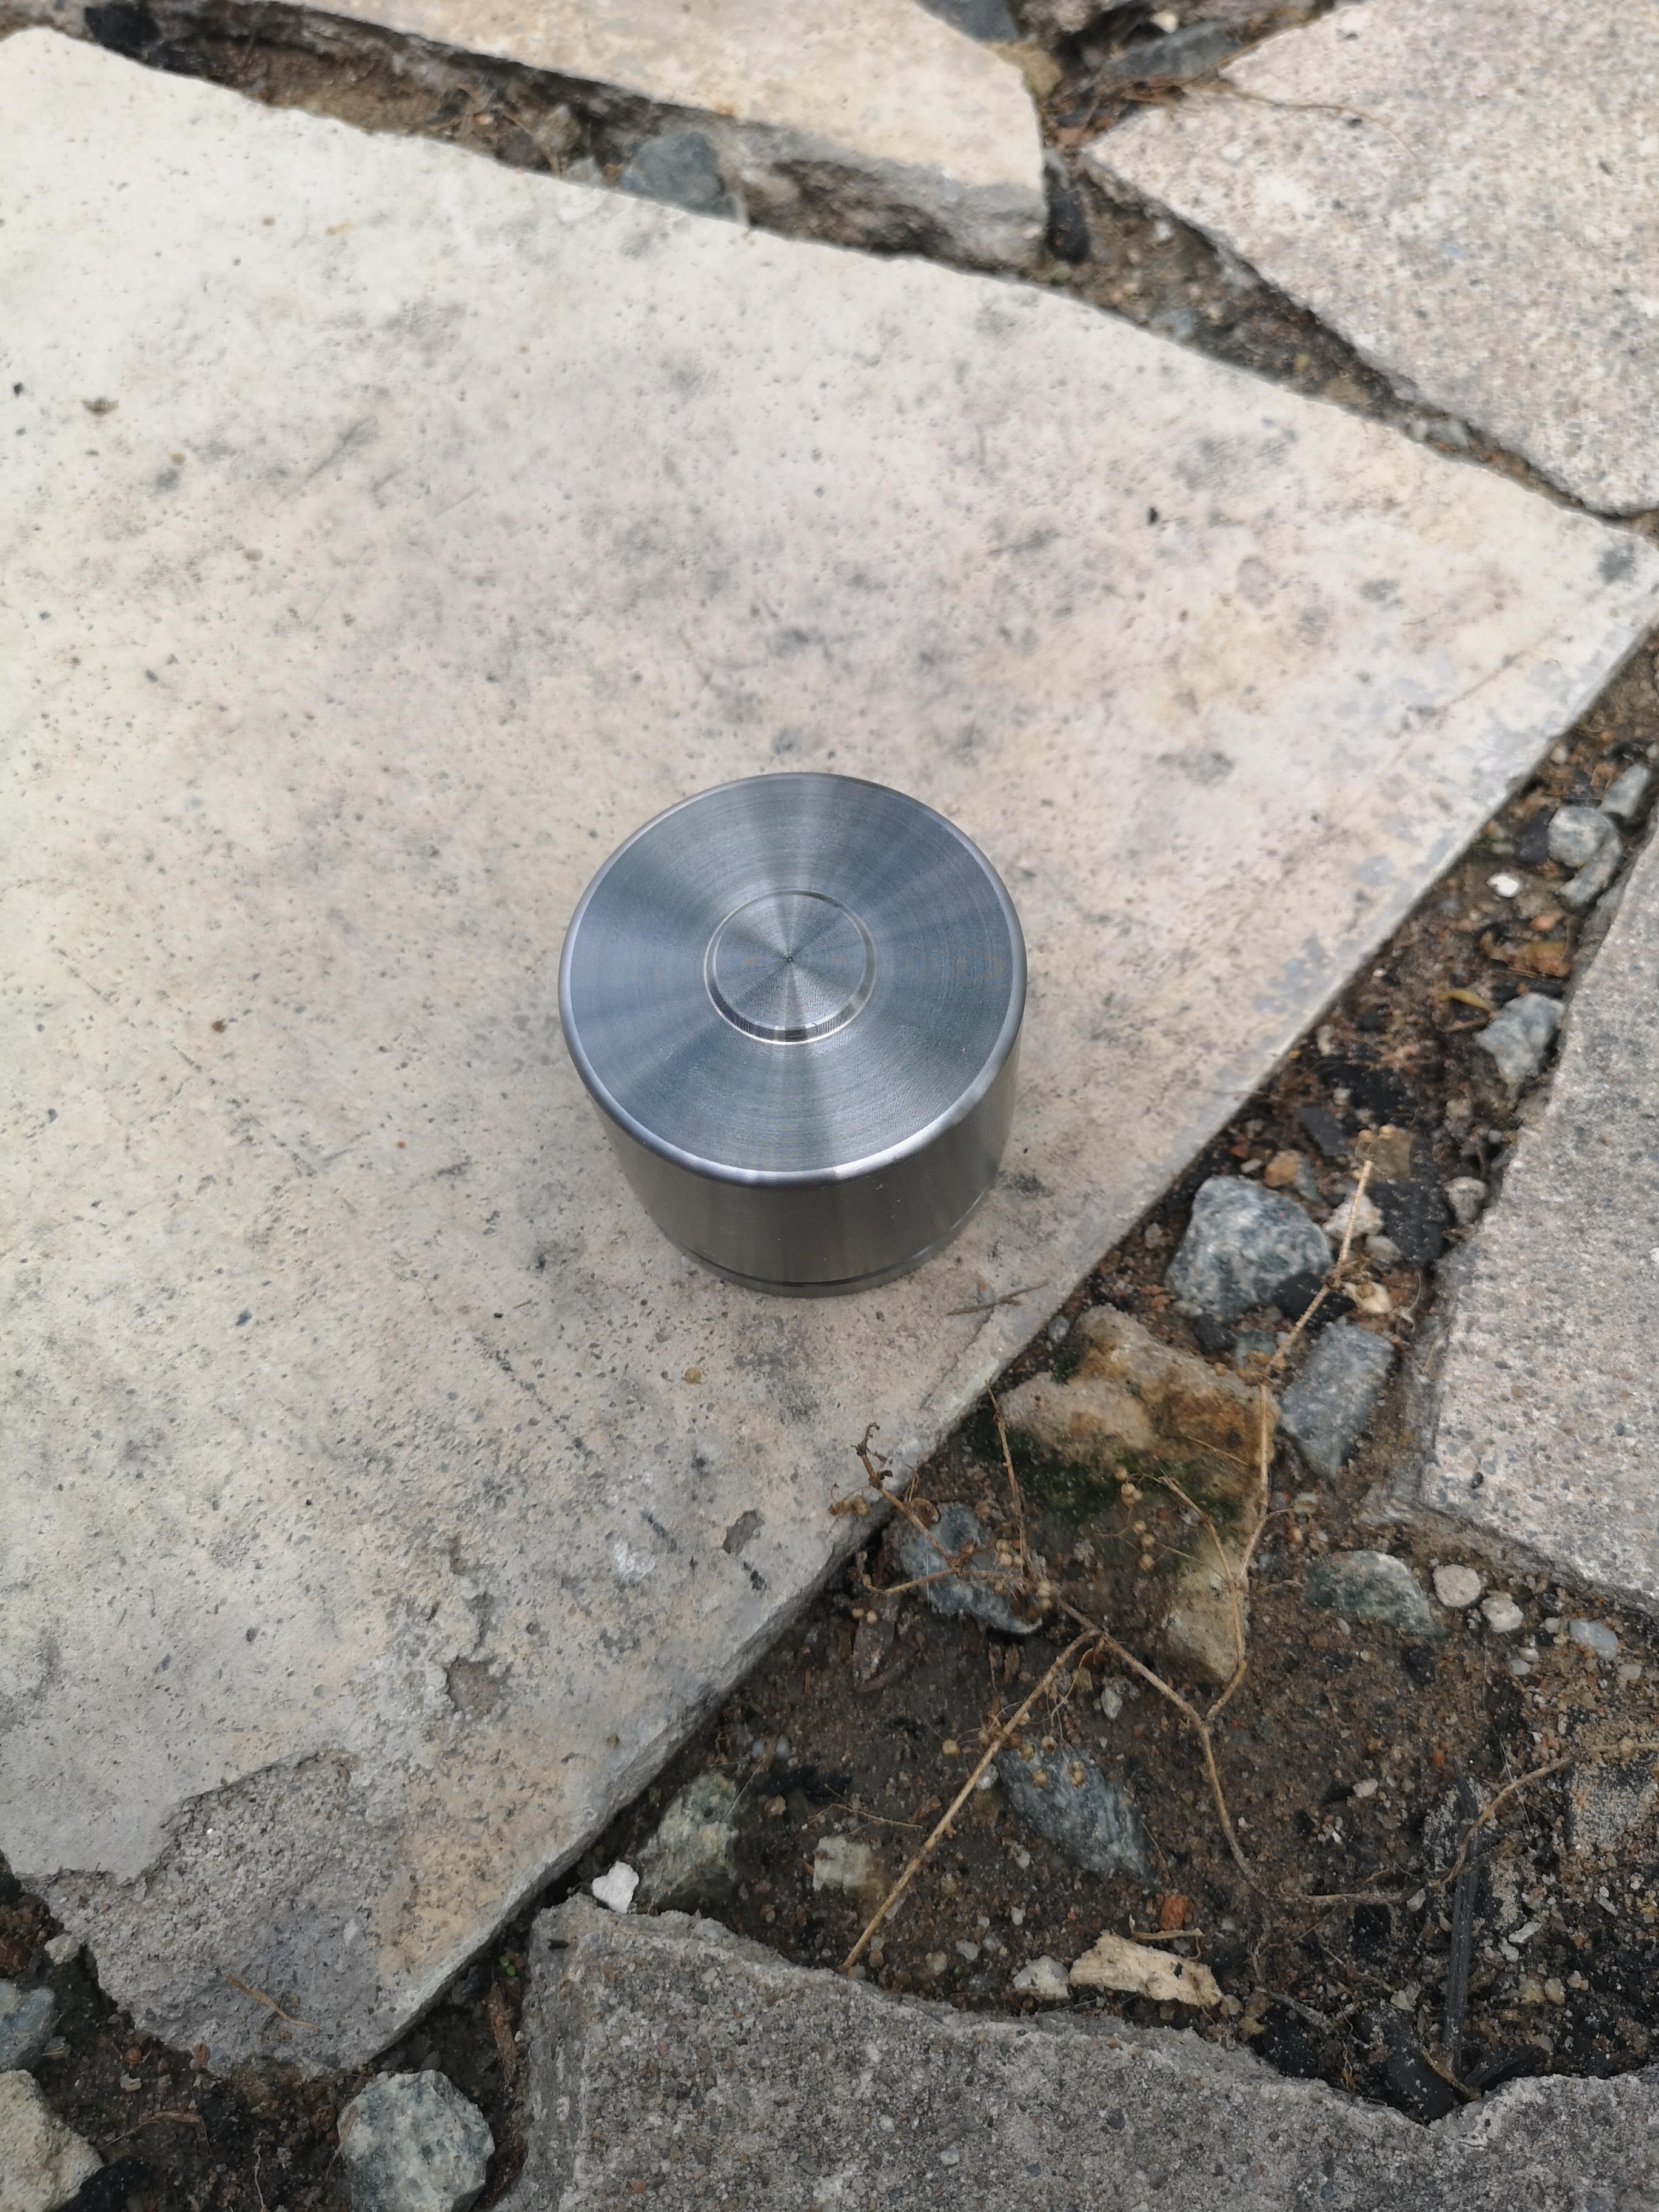ลูกสูบดิสเบรค: (542, 728, 1119, 1305)
